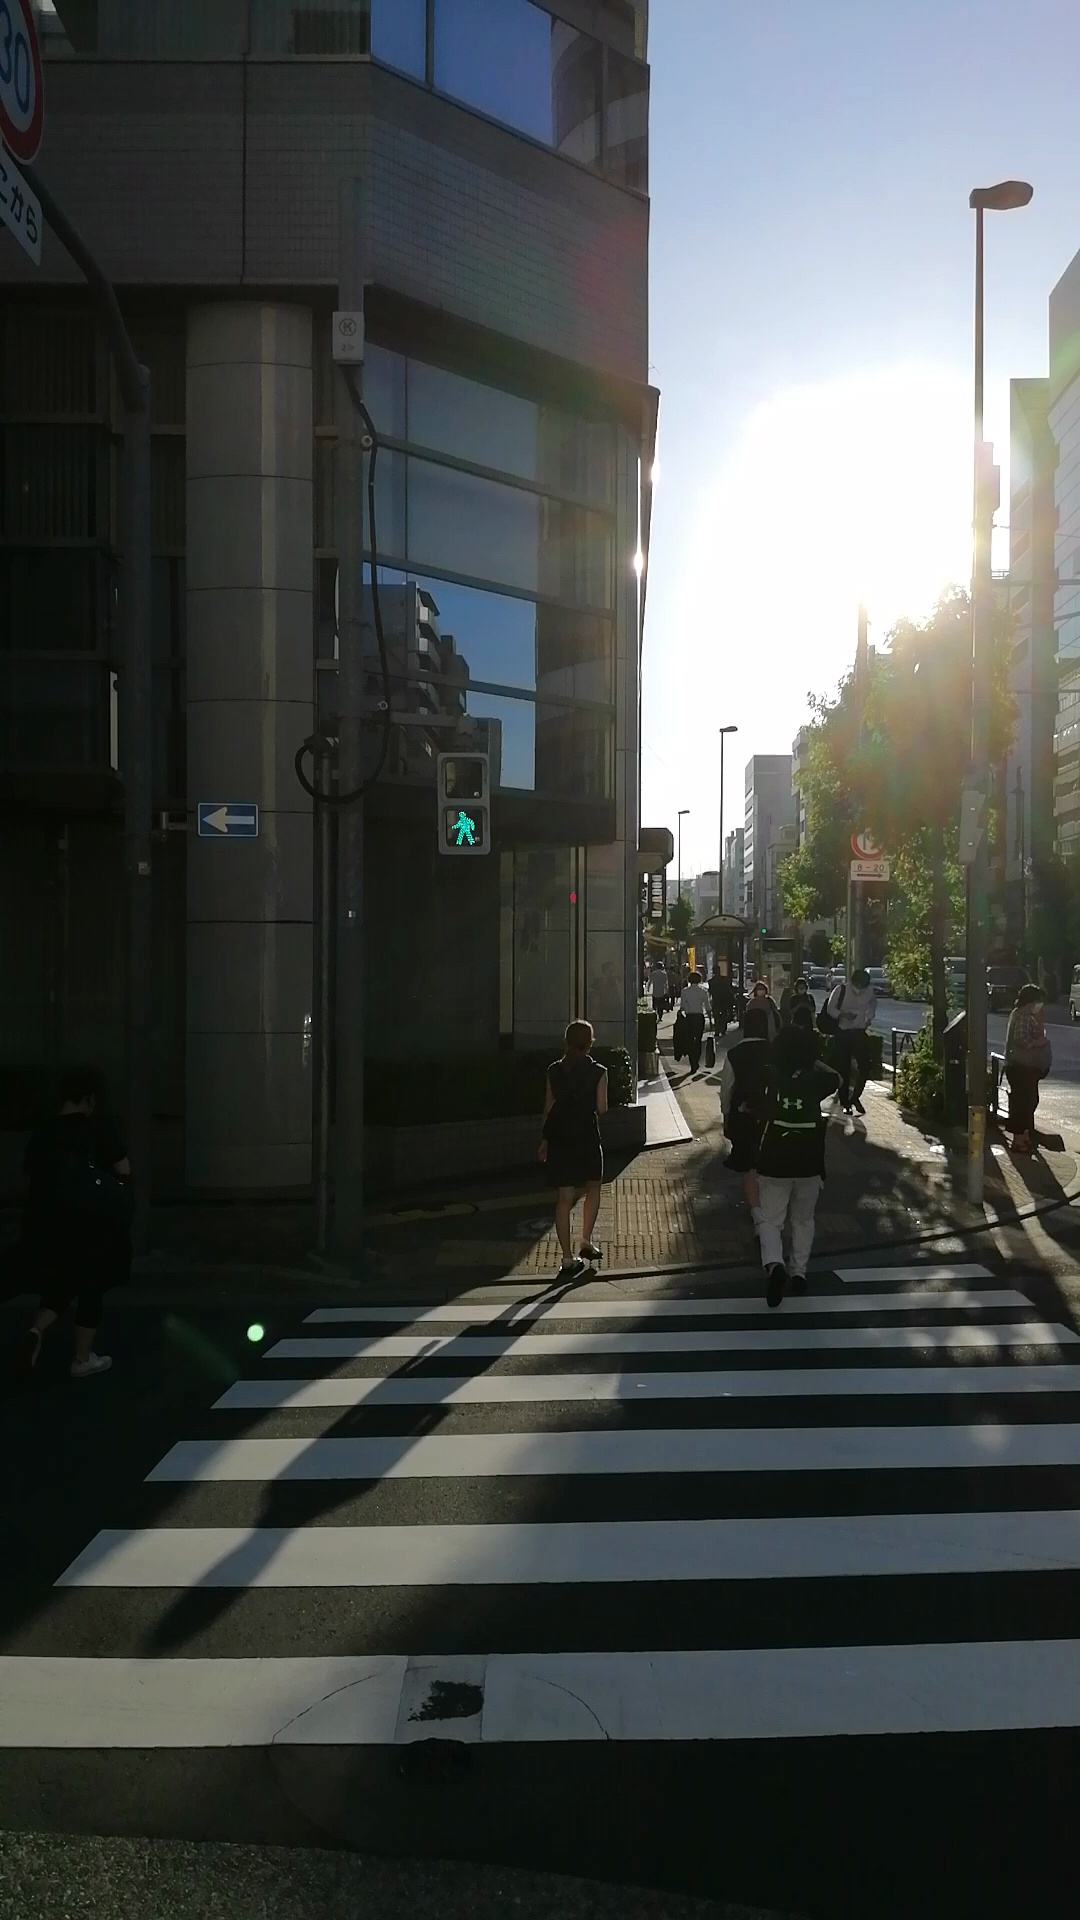green: (433, 746, 496, 865)
